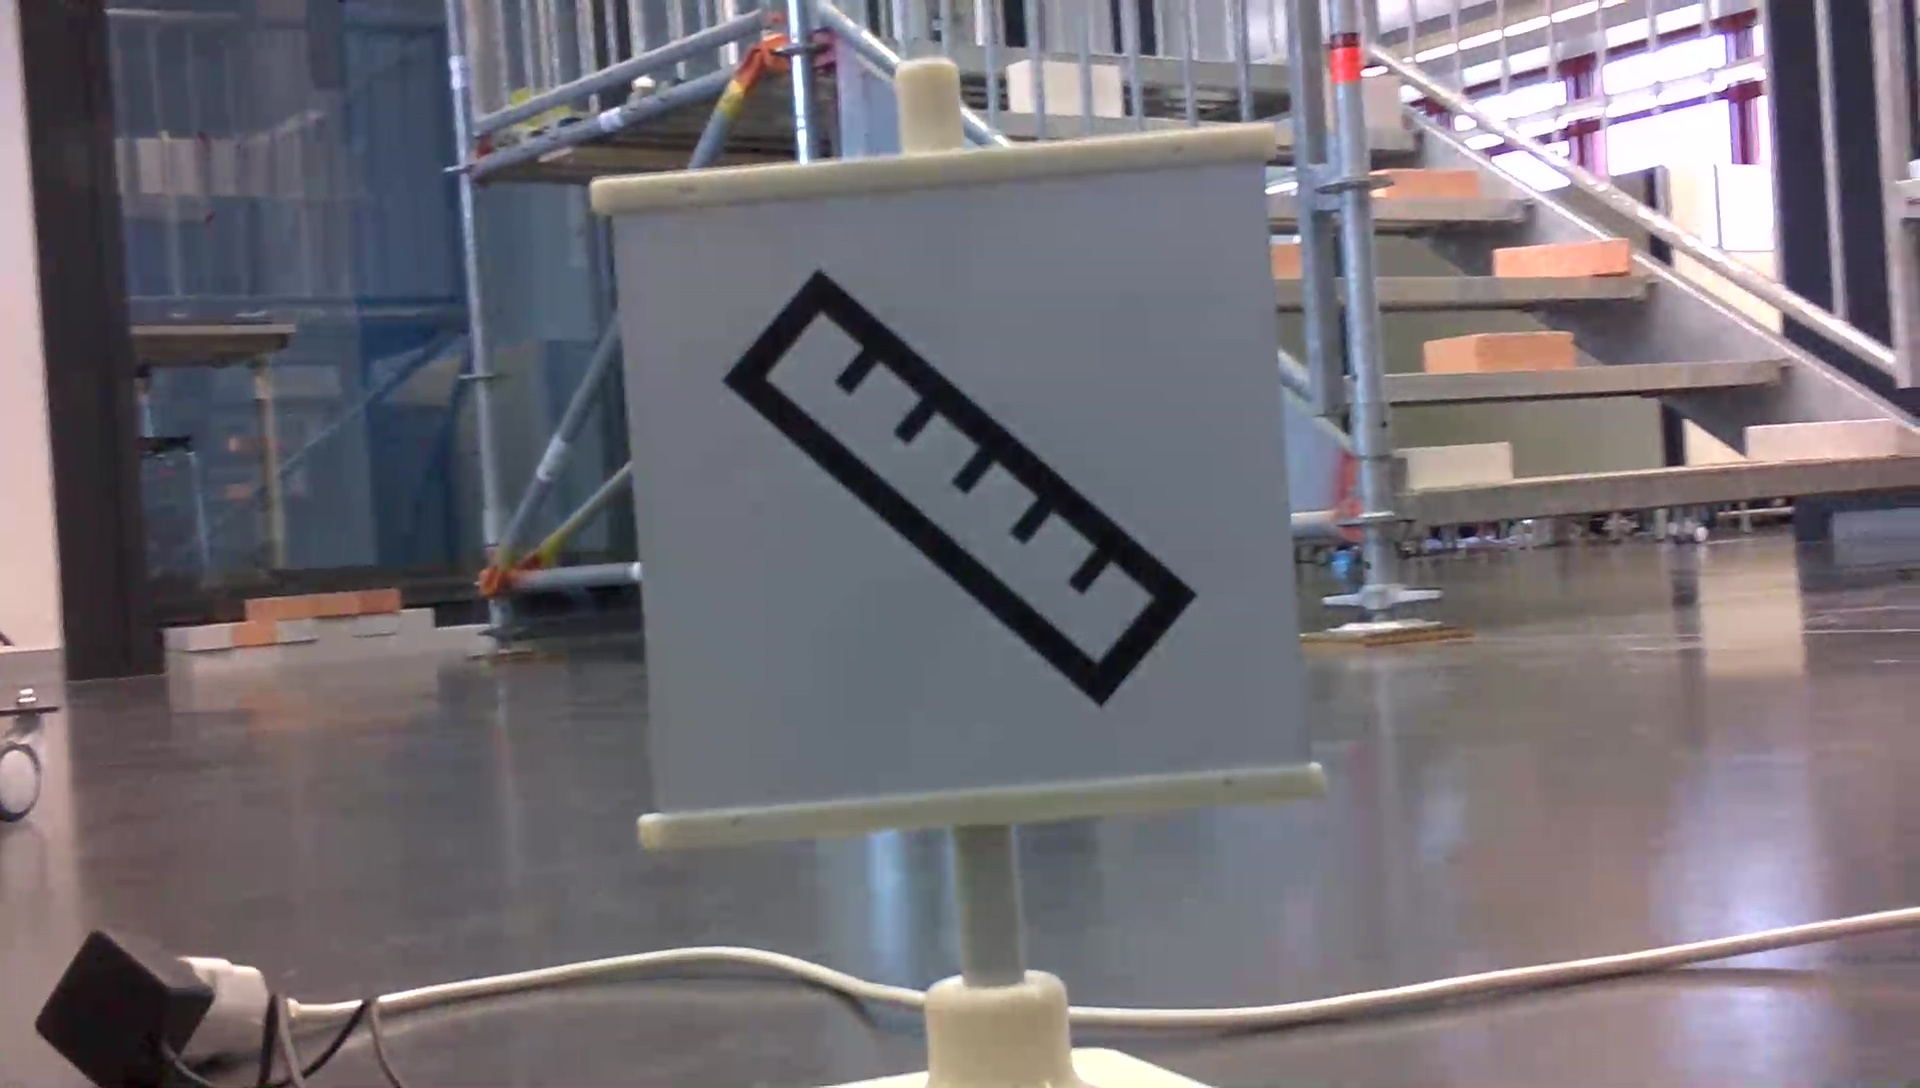brick: (1733, 413, 1905, 466), (1385, 437, 1524, 495), (1478, 229, 1635, 281), (1419, 326, 1584, 375), (1001, 59, 1126, 111), (1308, 73, 1400, 127), (1364, 164, 1480, 200), (1267, 237, 1307, 285)
edge: (1396, 450, 1920, 543), (1350, 344, 1779, 400), (1383, 249, 1647, 293), (1361, 190, 1531, 219)
ruler: (713, 237, 1208, 750)
